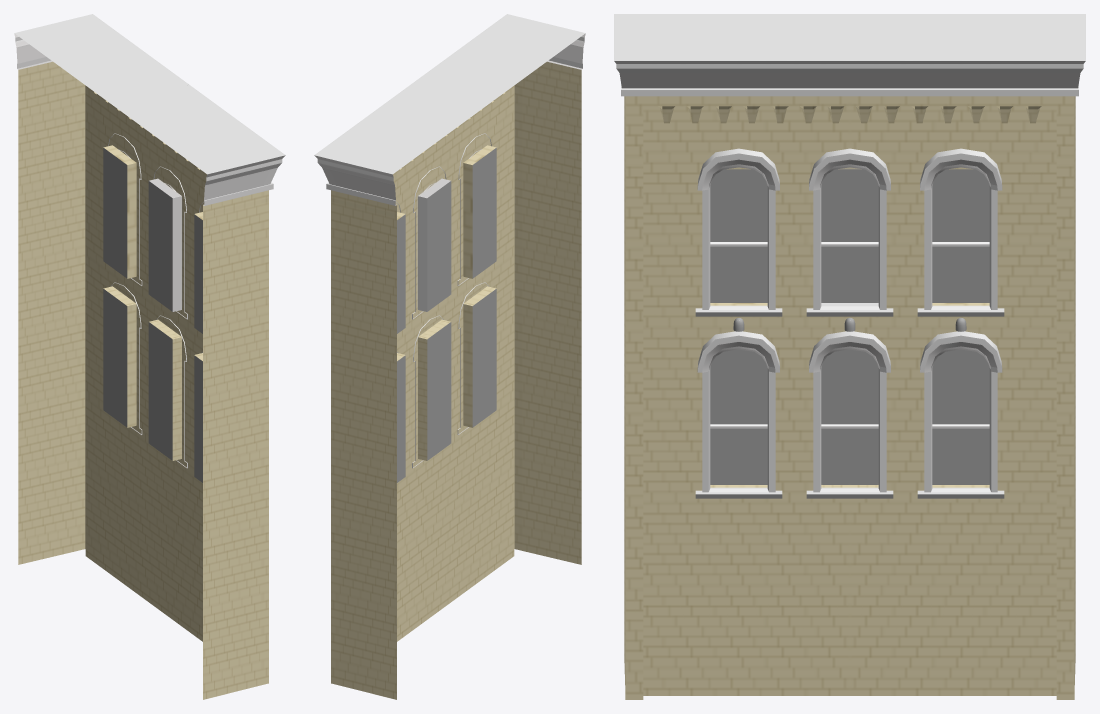
File: B_House_B.fbx
3 renders of one model, left to right at view 1: azimuth 30°, elevation 25°; view 2: azimuth 150°, elevation 25°; view 3: azimuth 270°, elevation 25°, orthographic. The views are drawn at different scales.
Parts seen in each view (by area): view 1: House_B; view 2: House_B; view 3: House_B.
Boxes of the visible parts, x1,y1,x2,y2 form: House_B: (14, 14, 285, 699); House_B: (314, 14, 585, 699); House_B: (614, 14, 1085, 699).
Bounding box in the file's own units: 113 × 724 × 479.
